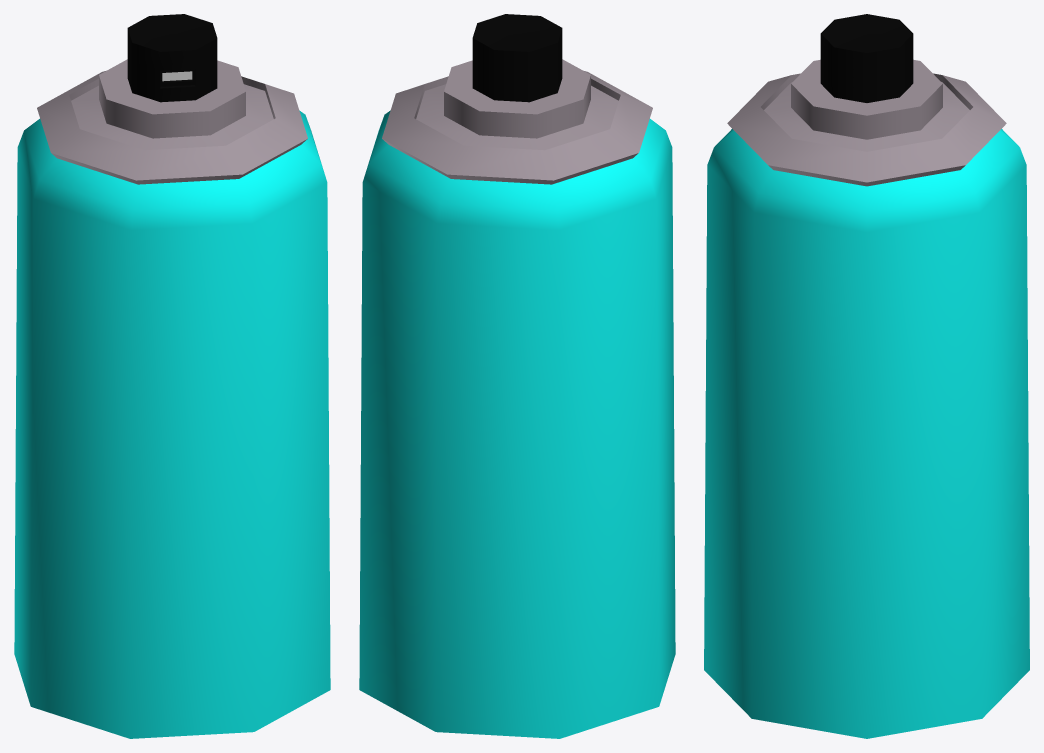
File: SPREJ I KREMA.fbx
The picture shows the model from 3 angles, left to right: view 1: azimuth 30°, elevation 25°; view 2: azimuth 150°, elevation 25°; view 3: azimuth 270°, elevation 25°; orthographic projection.
Visible parts, largest first — view 1: Cylinder; view 2: Cylinder; view 3: Cylinder.
Part boxes in pixels (x1,y1,x2,y2): Cylinder: [14, 14, 330, 738]; Cylinder: [359, 14, 675, 738]; Cylinder: [704, 14, 1029, 738].
Bounding box in the file's own units: 200 × 432 × 200.
